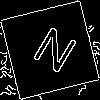N: (25, 25, 80, 83)
